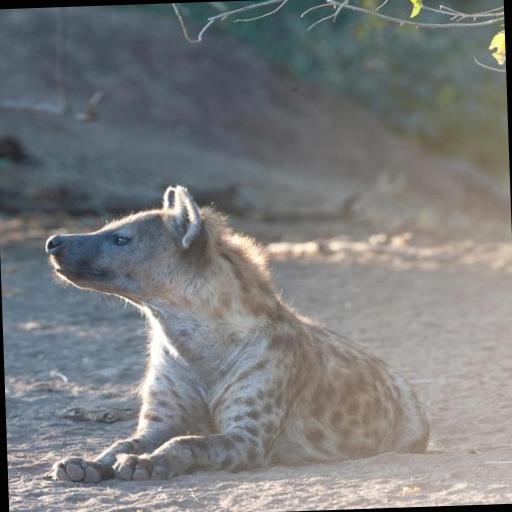hyenas: (13, 138, 493, 502)
